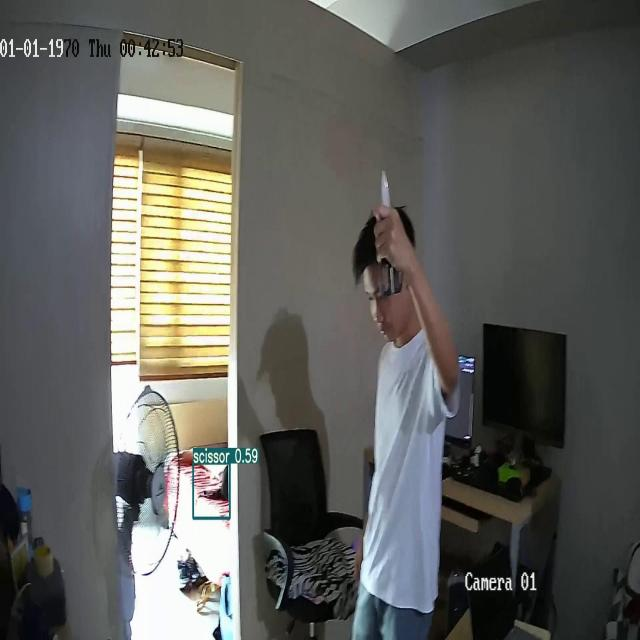scissor: (376, 171, 404, 295)
